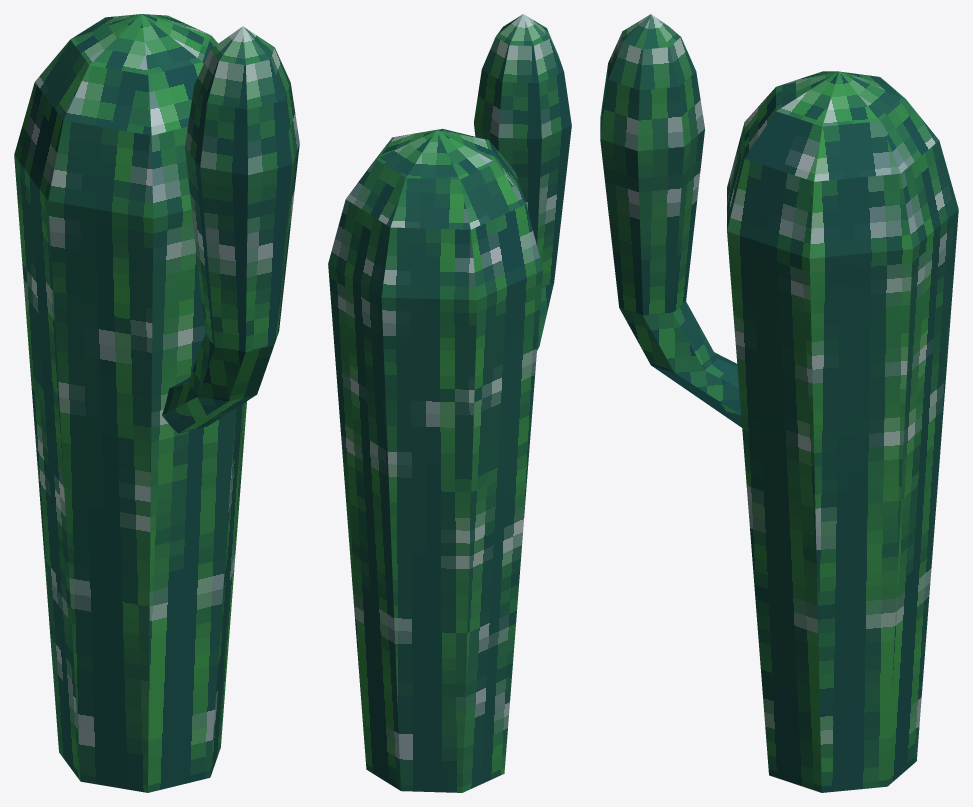
File: Cactus1.gltf
3 views of the same model, side by side, from view 1: azimuth 30°, elevation 25°; view 2: azimuth 150°, elevation 25°; view 3: azimuth 270°, elevation 25° (orthographic). The views are drawn at different scales.
Visible parts, largest first — view 1: cylinder (×2); view 2: cylinder (×2); view 3: cylinder (×2).
Boxes of the visible parts, x1,y1,x2,y2 form: cylinder (×2): [14, 14, 299, 792]; cylinder (×2): [328, 14, 571, 792]; cylinder (×2): [600, 14, 958, 792].
Bounding box in the file's own units: 0.2301 × 0.8125 × 0.3534.
Materials: 1 (1 with a texture image).
